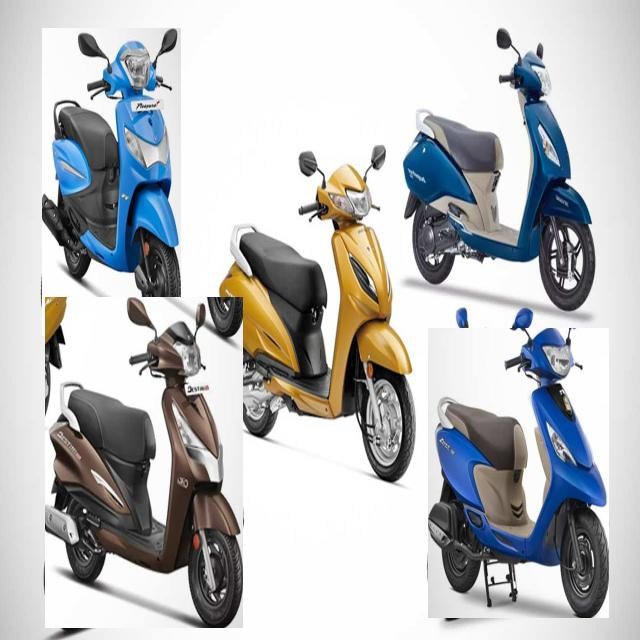motorcycle: (45, 298, 242, 628), (220, 164, 415, 480), (428, 329, 609, 618), (404, 44, 595, 310), (42, 29, 180, 336)
